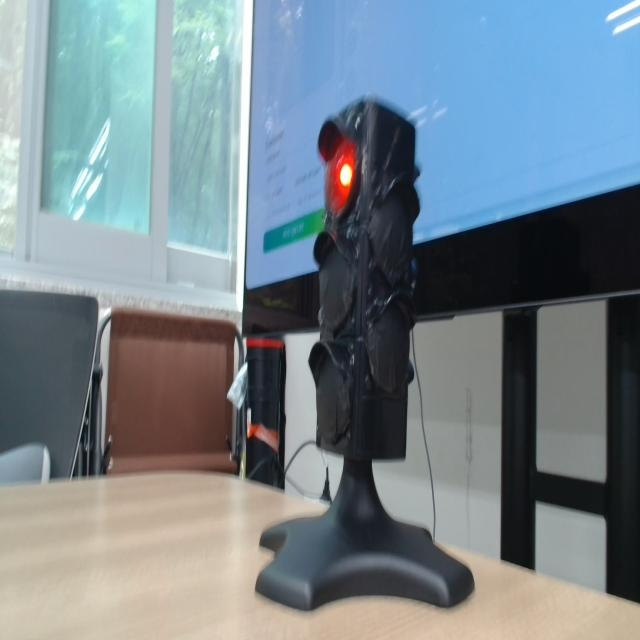red_light: (325, 138, 356, 216)
